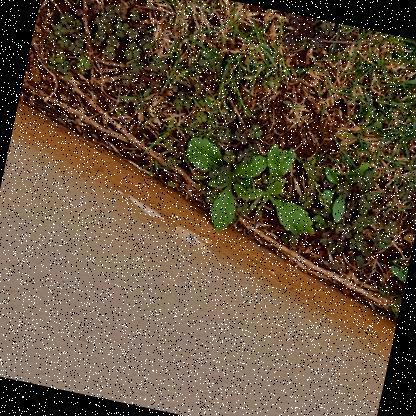Weeds: (224, 133, 335, 242), (171, 129, 271, 239), (381, 239, 414, 346)
